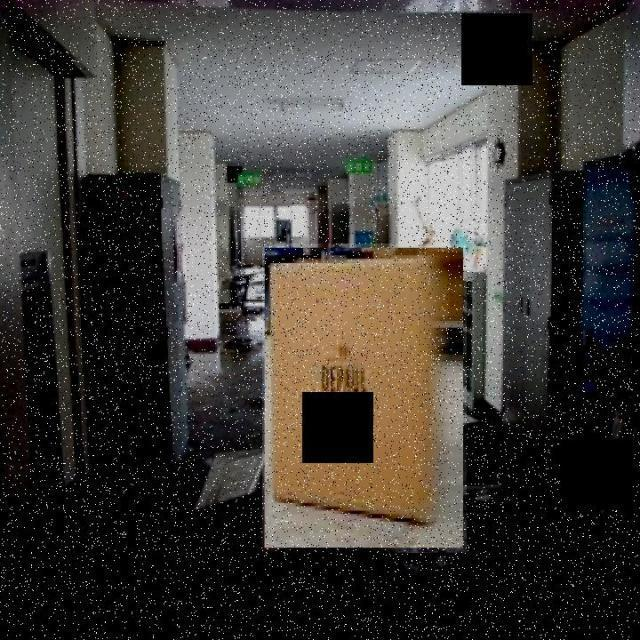box: (262, 244, 467, 554)
